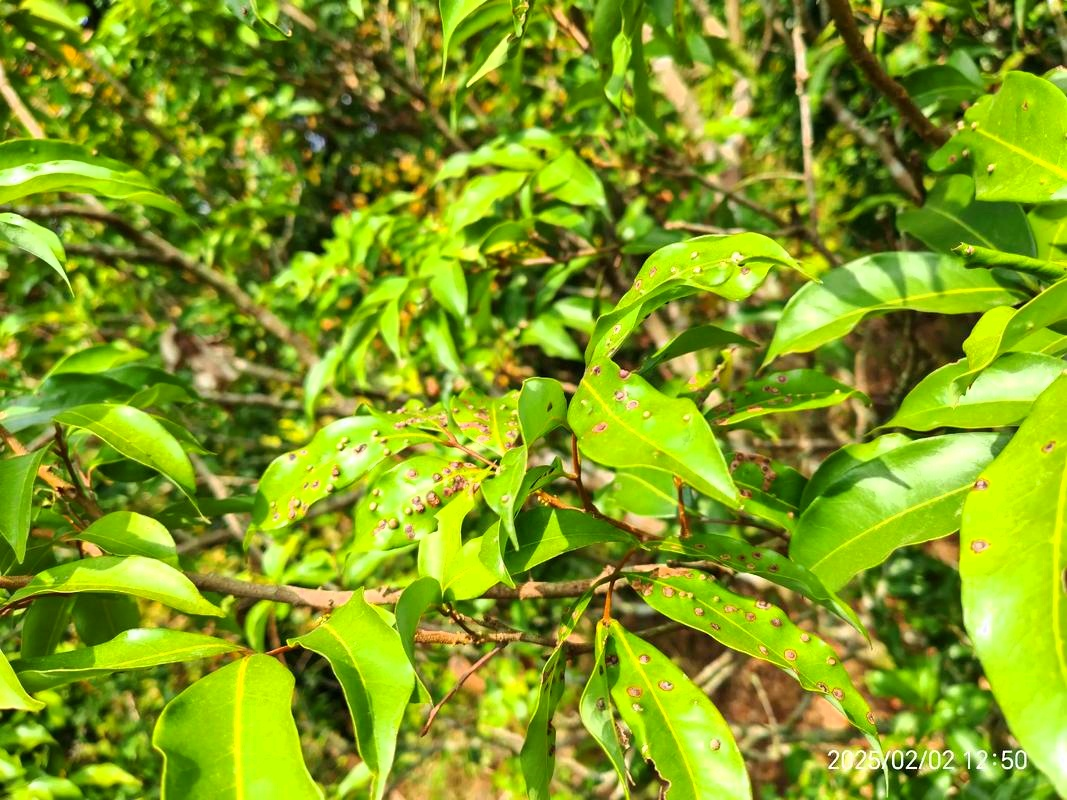Anthracnose: (601, 559, 873, 726), (543, 197, 807, 340), (196, 413, 398, 555), (350, 382, 547, 519), (547, 321, 722, 469), (547, 640, 758, 762), (905, 419, 1016, 551)
